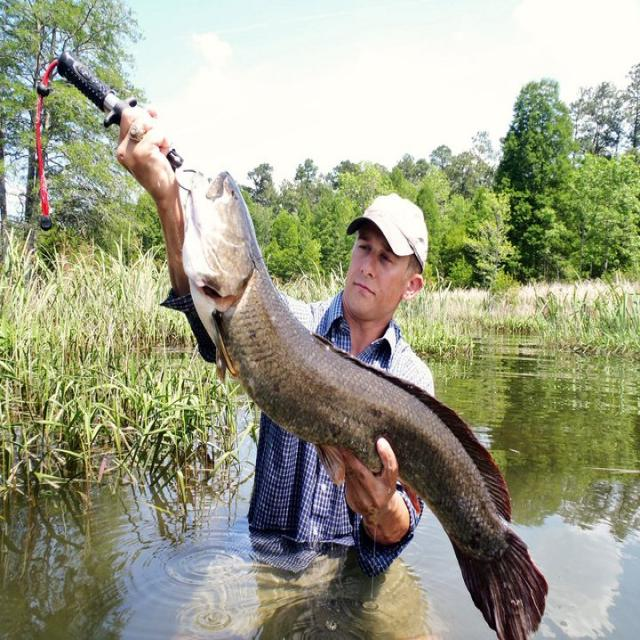Bowfin: (182, 173, 548, 638)
